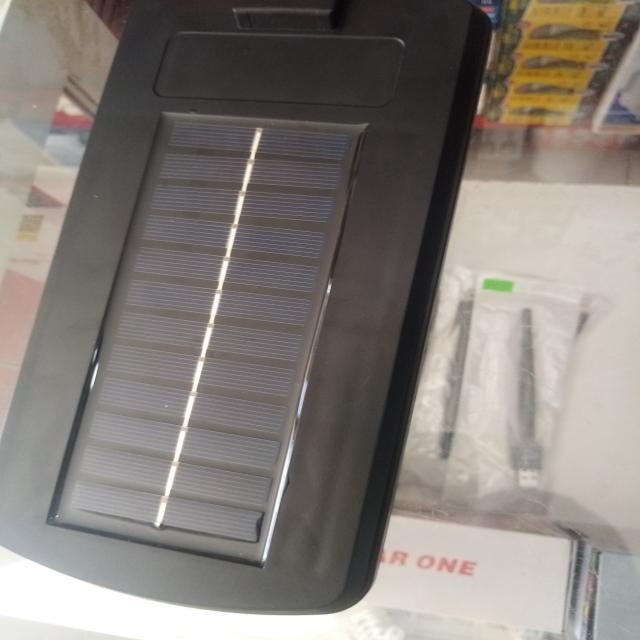no faulty: (47, 117, 367, 557)
